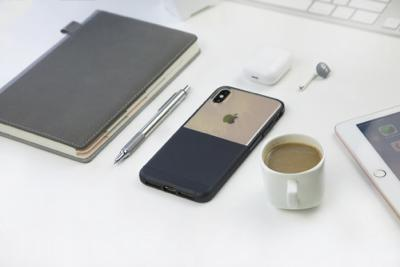cell-phone: (137, 84, 282, 207)
